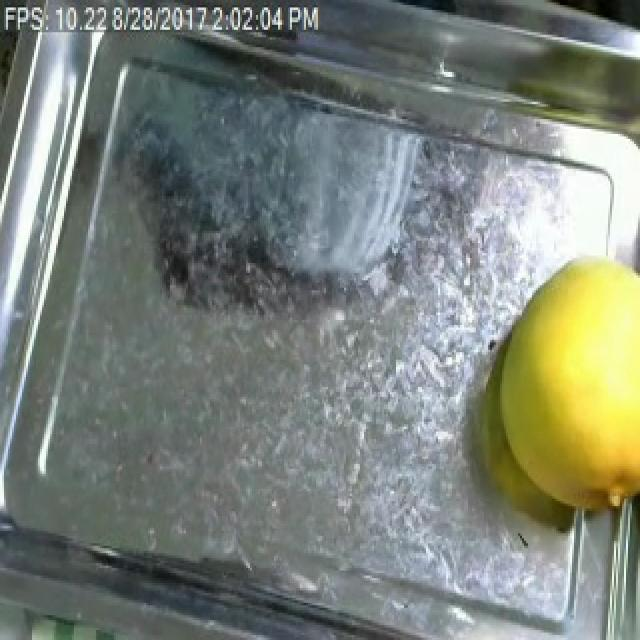fruit: (466, 226, 640, 528)
